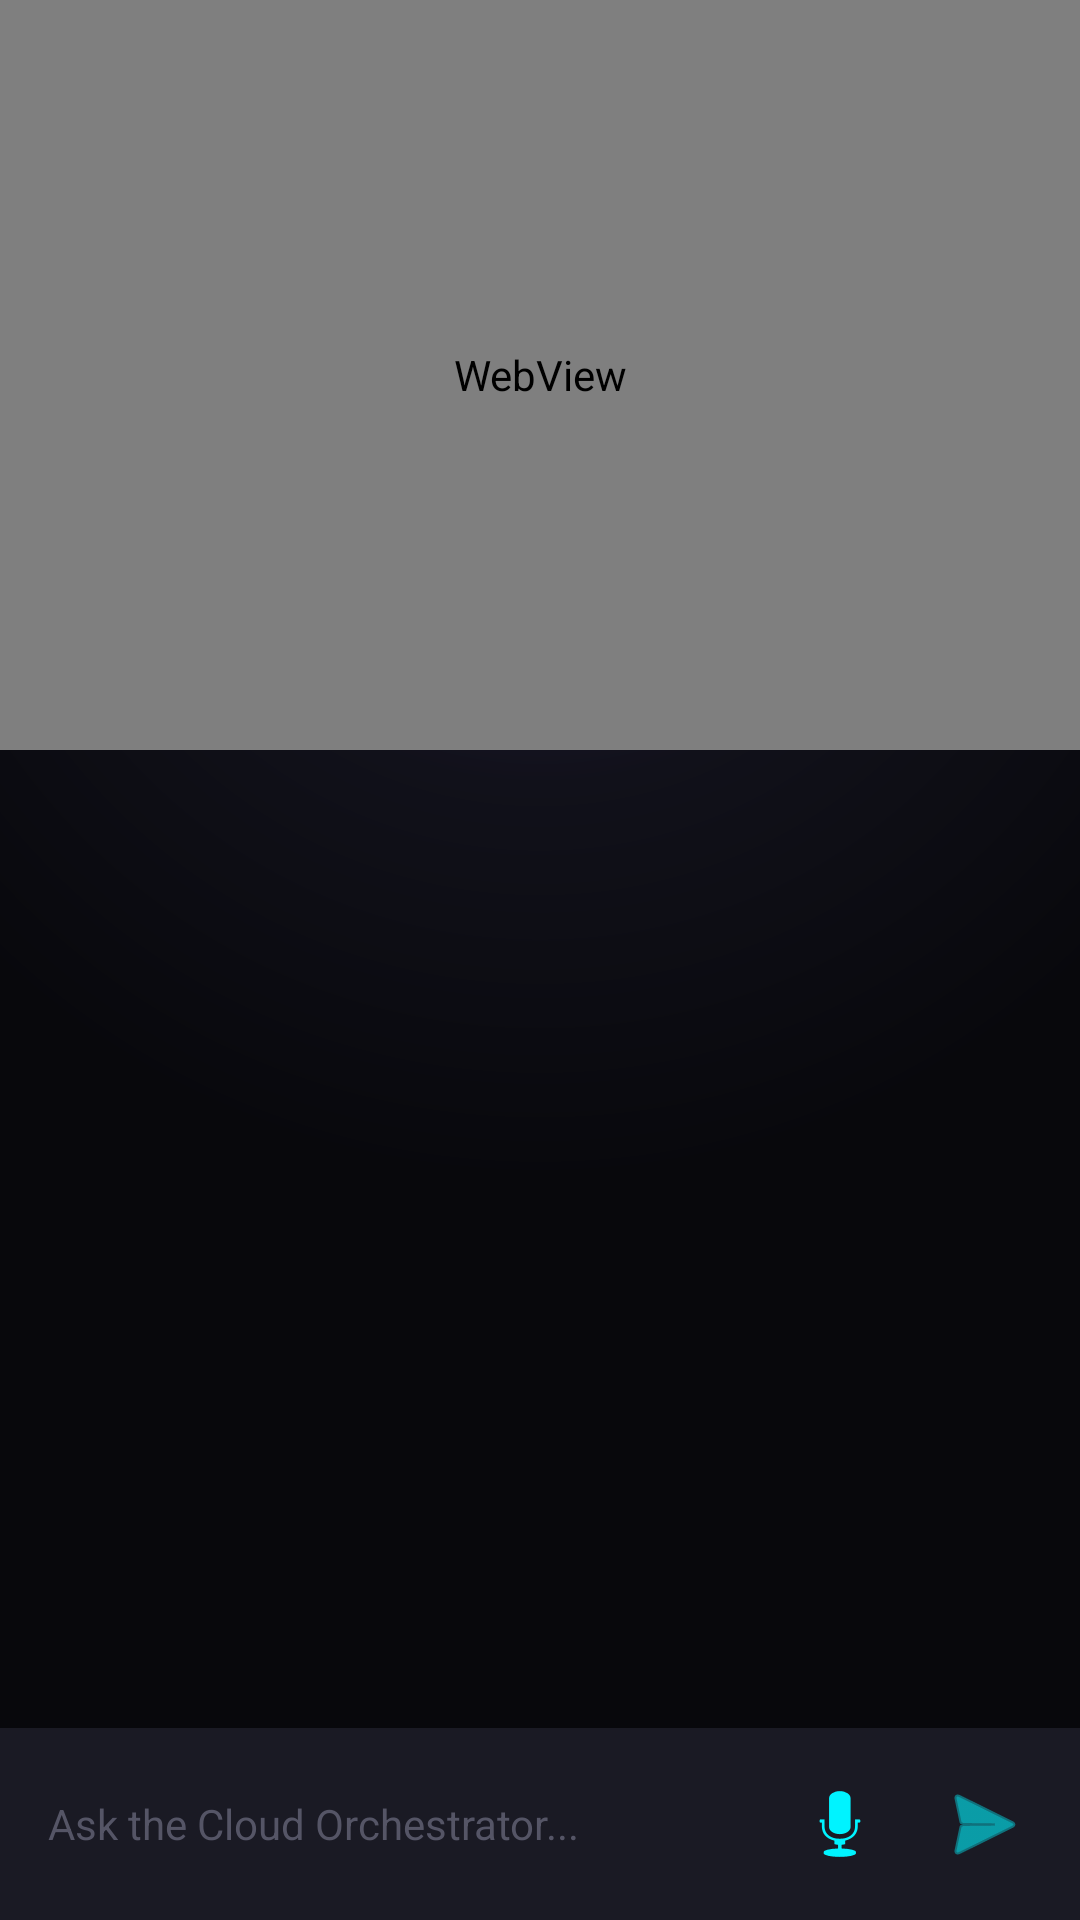

Where icons sit on this 1080×1920 app screen, as bbox=[x1, y1, x2, y2]:
send: bbox=[954, 1794, 1016, 1855]
speak now: bbox=[819, 1791, 861, 1857]
